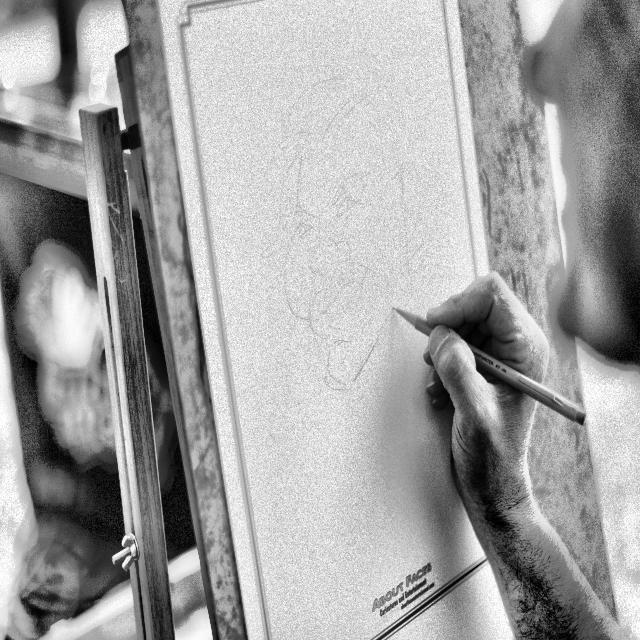Notebook: (156, 0, 516, 640)
